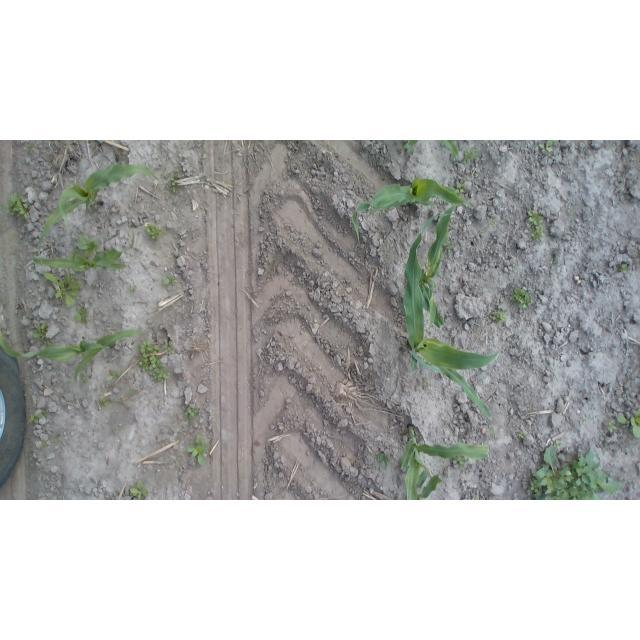Maize: (399, 231, 502, 422), (36, 165, 160, 242), (1, 328, 150, 385), (351, 176, 467, 245), (397, 420, 491, 500), (420, 201, 467, 327), (24, 224, 138, 272), (441, 141, 457, 160)
Weeds: (532, 443, 625, 500), (43, 270, 82, 310), (137, 338, 171, 383), (185, 435, 211, 466), (6, 192, 34, 220), (616, 408, 640, 439), (526, 209, 547, 242), (508, 285, 532, 310), (164, 170, 181, 195), (128, 480, 148, 500), (32, 320, 50, 340), (462, 146, 481, 164), (73, 305, 90, 325), (374, 452, 390, 473), (143, 224, 162, 241), (182, 402, 198, 421), (490, 308, 507, 324), (451, 457, 470, 470), (404, 141, 419, 156), (161, 274, 175, 287), (106, 370, 121, 382), (443, 241, 453, 258), (539, 141, 554, 152), (527, 480, 538, 494), (607, 418, 618, 432), (515, 428, 526, 440), (28, 413, 39, 424), (455, 182, 465, 194), (97, 396, 107, 407), (620, 263, 629, 275), (486, 424, 495, 433), (54, 433, 63, 442), (552, 439, 560, 449), (580, 416, 588, 425), (567, 207, 575, 216), (26, 142, 34, 151), (126, 285, 135, 293), (37, 410, 45, 419), (45, 341, 55, 348), (81, 373, 88, 383), (40, 441, 47, 451), (489, 218, 495, 229), (423, 377, 429, 388), (550, 259, 556, 266), (553, 141, 557, 144)
